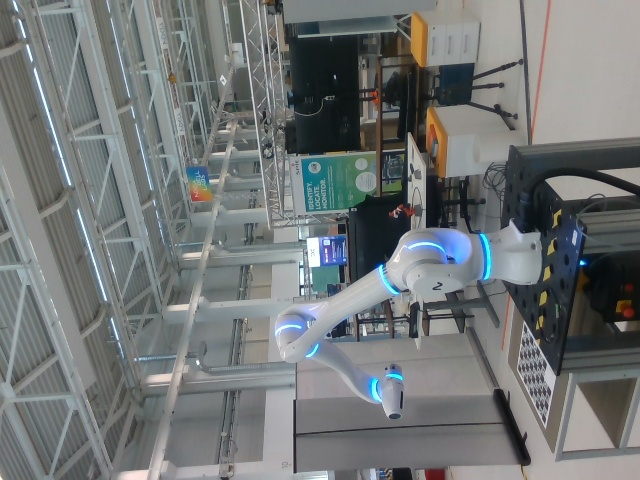Robot arm: (275, 218, 542, 419)
